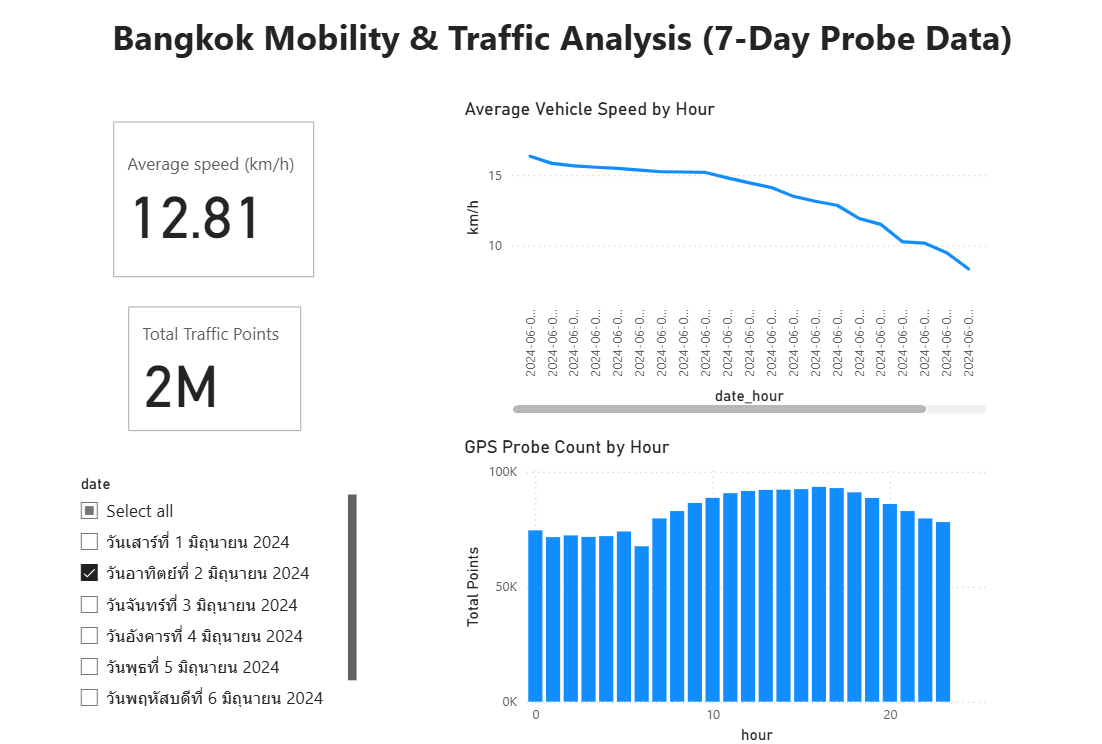

What the dashboard file says about the page in this screenshot:
{"tool":"powerbi","page":{"name":"Page 1","canvas":[1280,720],"ordinal":0},"visuals":[{"type":"lineChart","title":"Average Vehicle Speed by Hour","fields":{"Category":["probe_7days_hourly.date_hour"],"Y":["Sum(probe_7days_hourly.avg_speed)"]},"box":[573.6,113.9,495.4,299.1],"z":0},{"type":"clusteredColumnChart","title":"GPS Probe Count by Hour","fields":{"Category":["probe_7days_hourly.hour"],"Y":["Sum(probe_7days_hourly.points)"]},"box":[573.6,429.5,495.4,290.9],"z":1000},{"type":"textbox","box":[214.4,12.2,911.1,96.7],"z":2000},{"type":"slicer","fields":{"Values":["probe_7days_hourly.date"]},"box":[208.6,459.7,274.4,229.2],"z":3000},{"type":"cardVisual","fields":{"Data":["Avg(probe_7days_hourly.avg_speed)"]},"box":[247,131.7,197.6,155.1],"z":4000},{"type":"cardVisual","fields":{"Data":["Sum(probe_7days_hourly.points)"]},"box":[260.7,303.3,171.5,126.2],"z":5000}]}

Visuals, with their boxes on the page's 1280x720 design canvas (x1, y1, x2, y2). These are canvas units, not pixel positions in the 1102x744 screenshot, which may show the page scaled, cropped or inside an application window:
"Average Vehicle Speed by Hour" lineChart: Rect(574, 114, 1069, 413)
"GPS Probe Count by Hour" clusteredColumnChart: Rect(574, 430, 1069, 720)
textbox: Rect(214, 12, 1126, 109)
slicer - probe_7days_hourly.date: Rect(209, 460, 483, 689)
cardVisual - Avg(probe_7days_hourly.avg_speed): Rect(247, 132, 445, 287)
cardVisual - Sum(probe_7days_hourly.points): Rect(261, 303, 432, 430)
